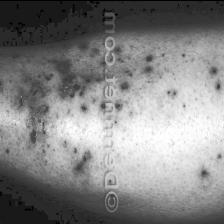Toxin: (12, 80, 44, 134), (144, 50, 156, 80)
